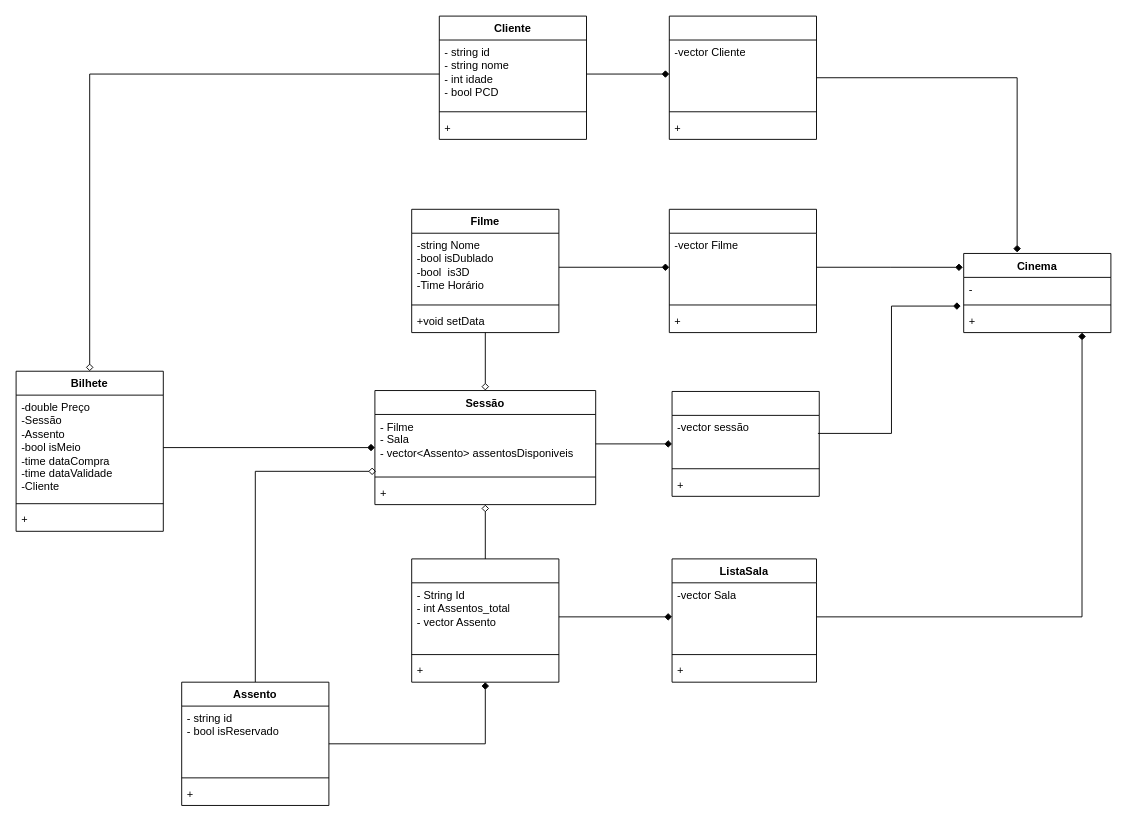
Some shapes in this 1127 by 824 pixel diagram are drawn without their labels. The shapes that lost their labels are listed below. From the top down, each one's box as (x1, y1, x2, y2) in pixels, then its label:
(668, 15, 816, 139): ListaCliente
(668, 208, 816, 333): ListaFilme
(671, 391, 819, 496): ListaSessão
(411, 558, 559, 682): Sala
